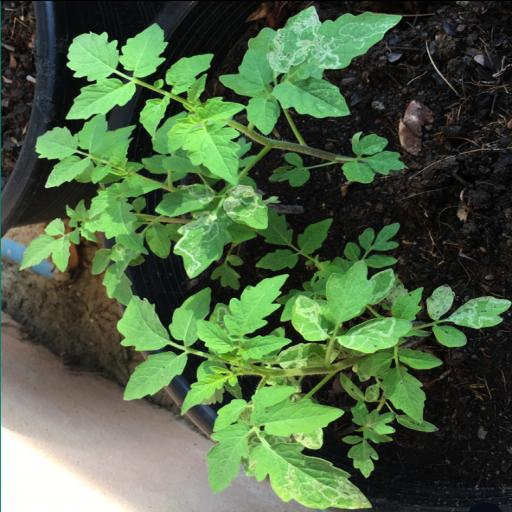disease_tomato: (240, 432, 376, 510), (296, 12, 404, 80), (170, 207, 234, 277), (264, 6, 320, 71), (336, 316, 410, 354), (446, 294, 512, 330), (153, 179, 217, 215), (289, 293, 336, 340), (221, 184, 271, 228), (368, 266, 396, 304)
